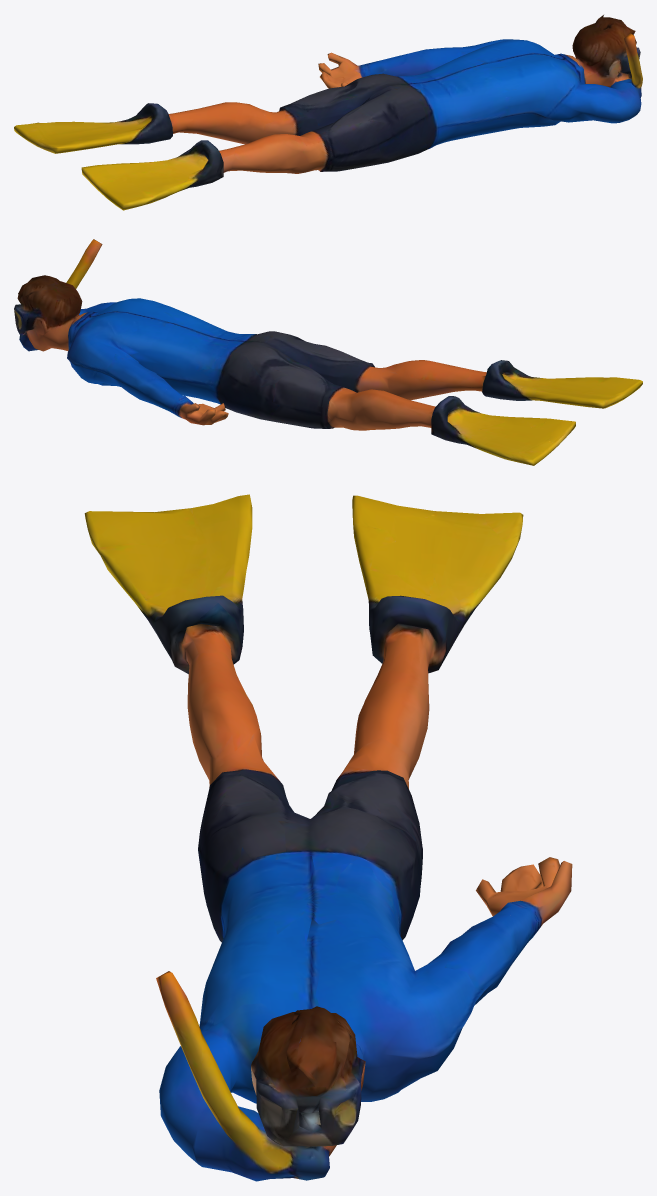
Rendered from snorkeler.glb.
3 views of the same model, one above another, from view 1: azimuth 30°, elevation 25°; view 2: azimuth 150°, elevation 25°; view 3: azimuth 270°, elevation 25° (orthographic). The views are drawn at different scales.
Visible parts, largest first — view 1: tripo_node_993a473c-b19b-4cf9-9fc3-5cb4df487e2e; view 2: tripo_node_993a473c-b19b-4cf9-9fc3-5cb4df487e2e; view 3: tripo_node_993a473c-b19b-4cf9-9fc3-5cb4df487e2e.
Part boxes in pixels (x1=…): tripo_node_993a473c-b19b-4cf9-9fc3-5cb4df487e2e: x1=14, y1=15, x2=642, y2=210; tripo_node_993a473c-b19b-4cf9-9fc3-5cb4df487e2e: x1=14, y1=239, x2=642, y2=465; tripo_node_993a473c-b19b-4cf9-9fc3-5cb4df487e2e: x1=84, y1=494, x2=572, y2=1181.
Bounding box in the file's own units: 0.9993 × 0.1577 × 0.3712.
Materials: 1 (1 with a texture image).
